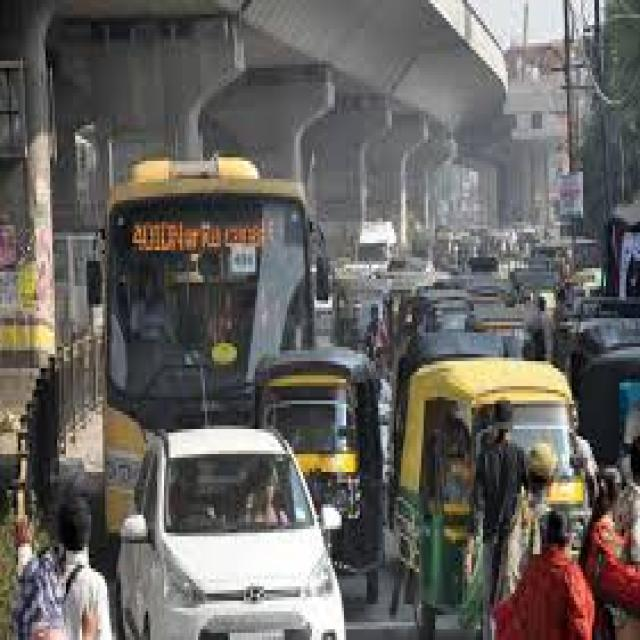bus: (105, 157, 310, 533)
car: (118, 429, 344, 640)
person: (460, 404, 524, 640), (14, 497, 112, 640), (494, 515, 592, 640), (581, 468, 638, 640), (497, 440, 553, 597)
three wheeler: (399, 358, 569, 604), (255, 350, 380, 583), (581, 347, 638, 465)
